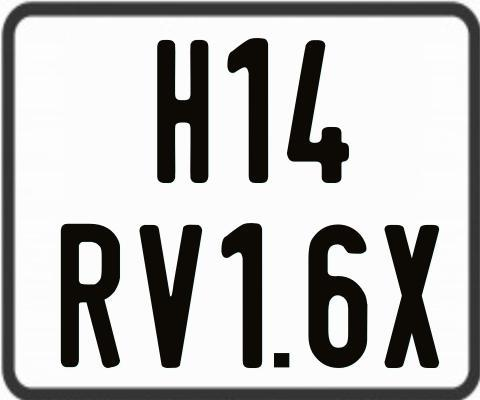1: (221, 220, 268, 365), (226, 37, 268, 182)
4: (286, 38, 353, 182)
6: (308, 223, 373, 366)
H: (155, 38, 209, 186)
R: (59, 223, 123, 372)
V: (138, 225, 200, 374)
X: (385, 224, 443, 367)
